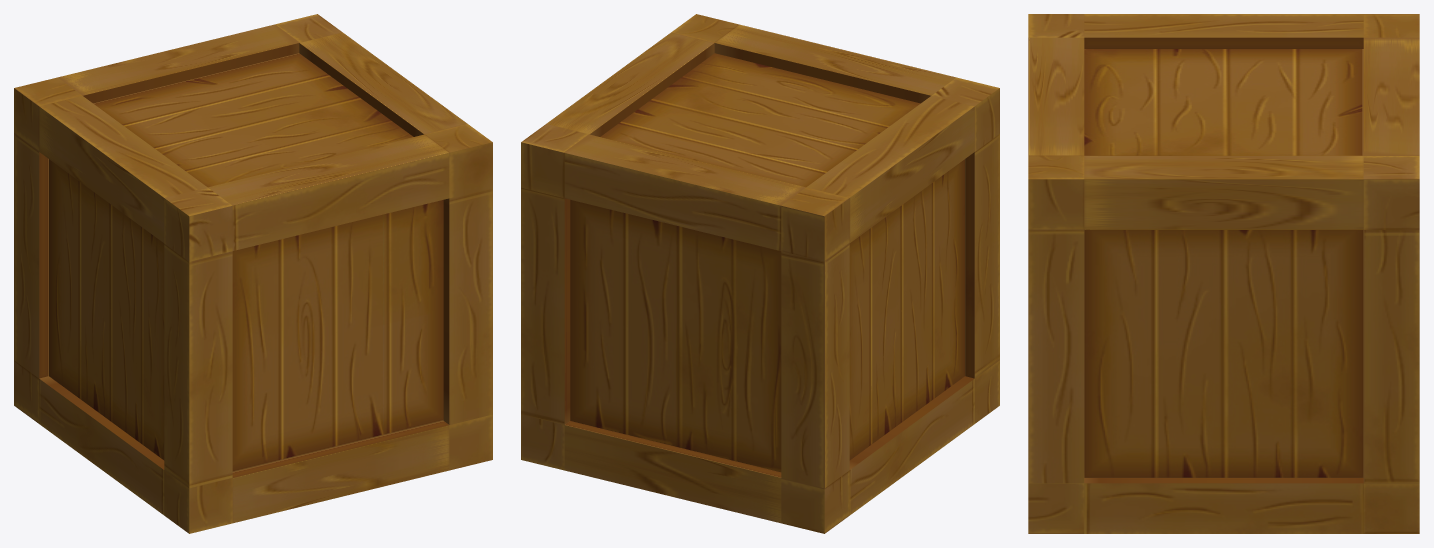
The picture shows the model from 3 angles, left to right: view 1: azimuth 30°, elevation 25°; view 2: azimuth 150°, elevation 25°; view 3: azimuth 270°, elevation 25°; orthographic projection. The views are drawn at different scales.
Parts seen in each view (by area): view 1: Box_low; view 2: Box_low; view 3: Box_low.
Boxes of the visible parts, x1,y1,x2,y2 form: Box_low: (14,14,492,533); Box_low: (521,14,999,533); Box_low: (1028,14,1419,533).
Bounding box in the file's own units: 0.12 × 0.12 × 0.12.
Materials: 1 (1 with a texture image).
